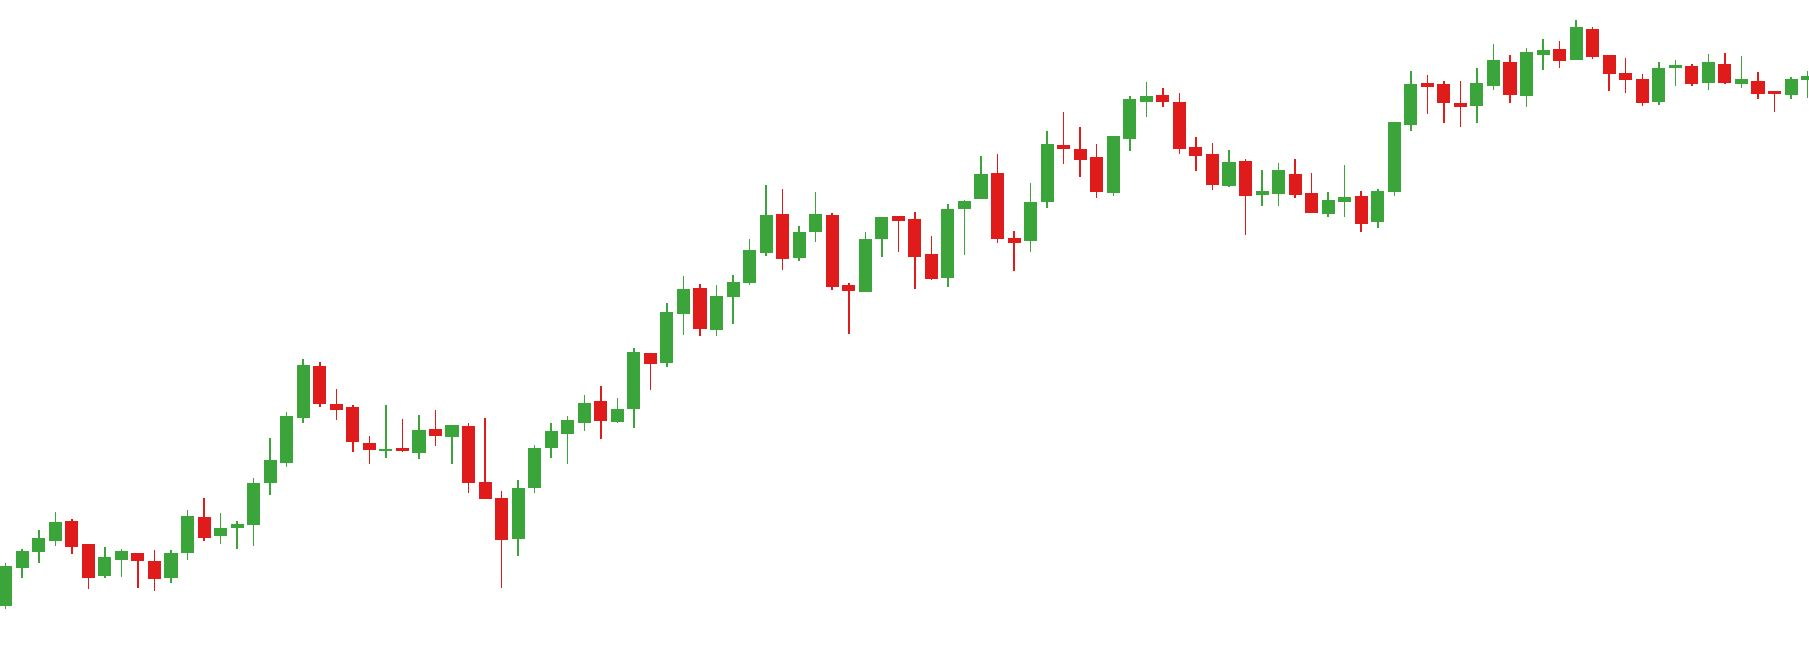buy: (217, 439, 527, 581), (727, 238, 855, 347)
sell: (1054, 84, 1189, 176)
